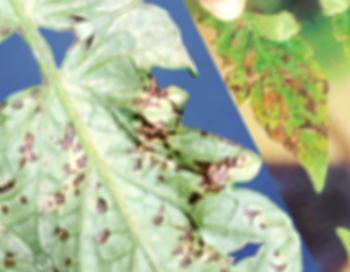Tomato leaf bacterial spot: (0, 0, 292, 272), (180, 0, 350, 211)
